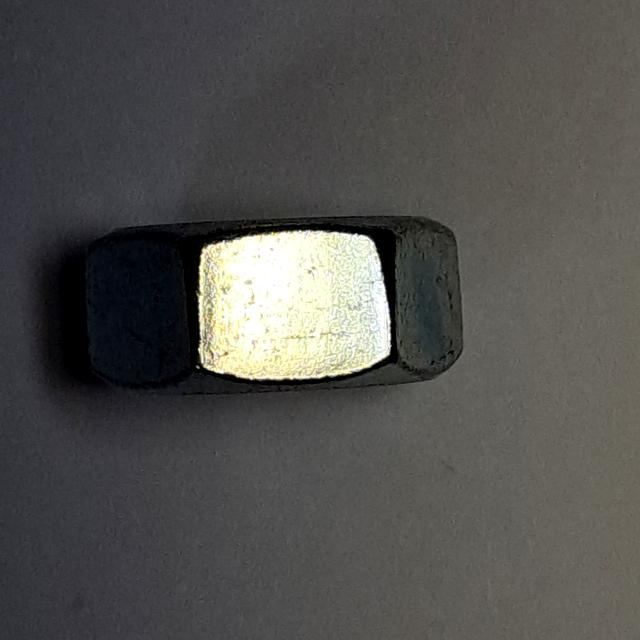Side_Excellent: (76, 182, 477, 426)
